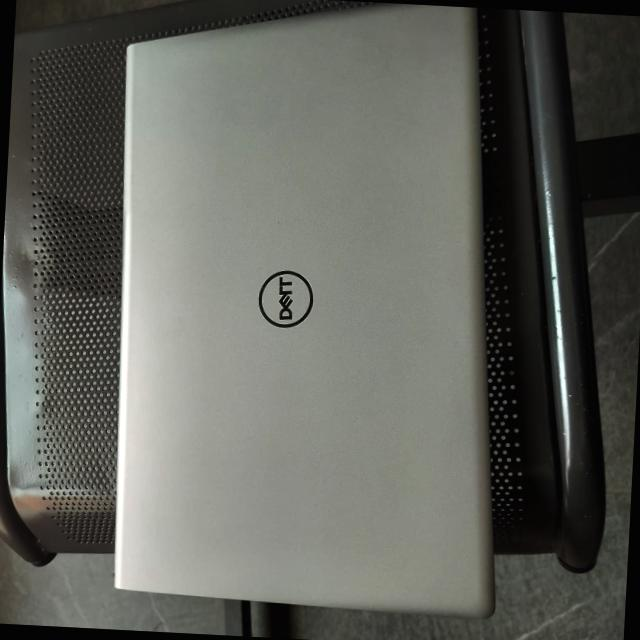laptop: (68, 0, 557, 631)
